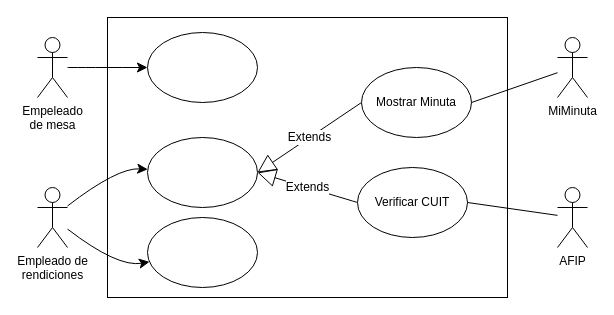
Some shapes in this 614 by 315 pixel diagram are drawn without their labels. Each missing label, with the box of its shape:
Aprobar Minuta: (146, 136, 258, 208)
Confeccionar minuta: (146, 32, 258, 102)
Listar Minuta: (146, 216, 258, 288)
